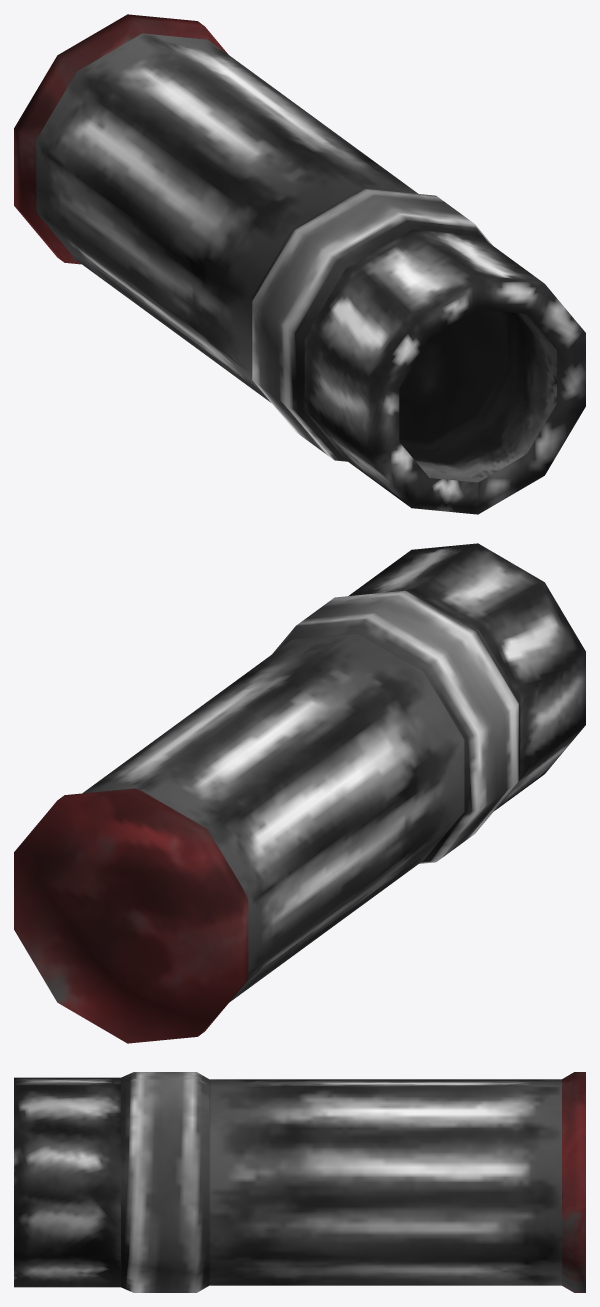
Rendered from MinigunBarrel.fbx.
The picture shows the model from 3 angles, top to bottom: view 1: azimuth 30°, elevation 25°; view 2: azimuth 150°, elevation 25°; view 3: azimuth 270°, elevation 25°; orthographic projection. The views are drawn at different scales.
Parts seen in each view (by area): view 1: MinibunBarrel; view 2: MinibunBarrel; view 3: MinibunBarrel.
Part boxes in pixels (x1=…): MinibunBarrel: x1=14, y1=14, x2=585, y2=514; MinibunBarrel: x1=14, y1=543, x2=585, y2=1043; MinibunBarrel: x1=14, y1=1072, x2=585, y2=1292.
Bounding box in the file's own units: 0.3805 × 0.4001 × 1.02.
